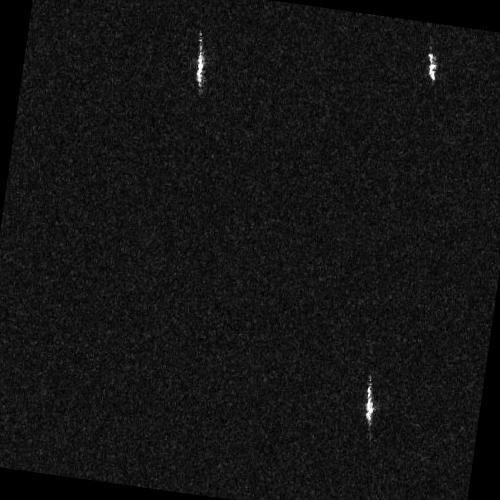ship: (195, 37, 205, 89), (364, 381, 375, 425), (427, 52, 437, 82)
